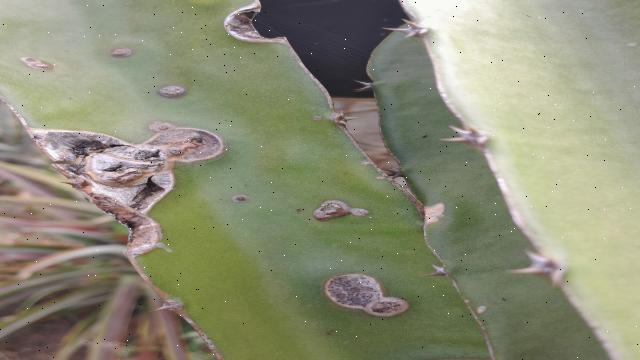stemcanker: (316, 269, 411, 321), (308, 197, 368, 222), (18, 52, 56, 76), (151, 82, 189, 101), (109, 45, 134, 60), (228, 191, 252, 205)
